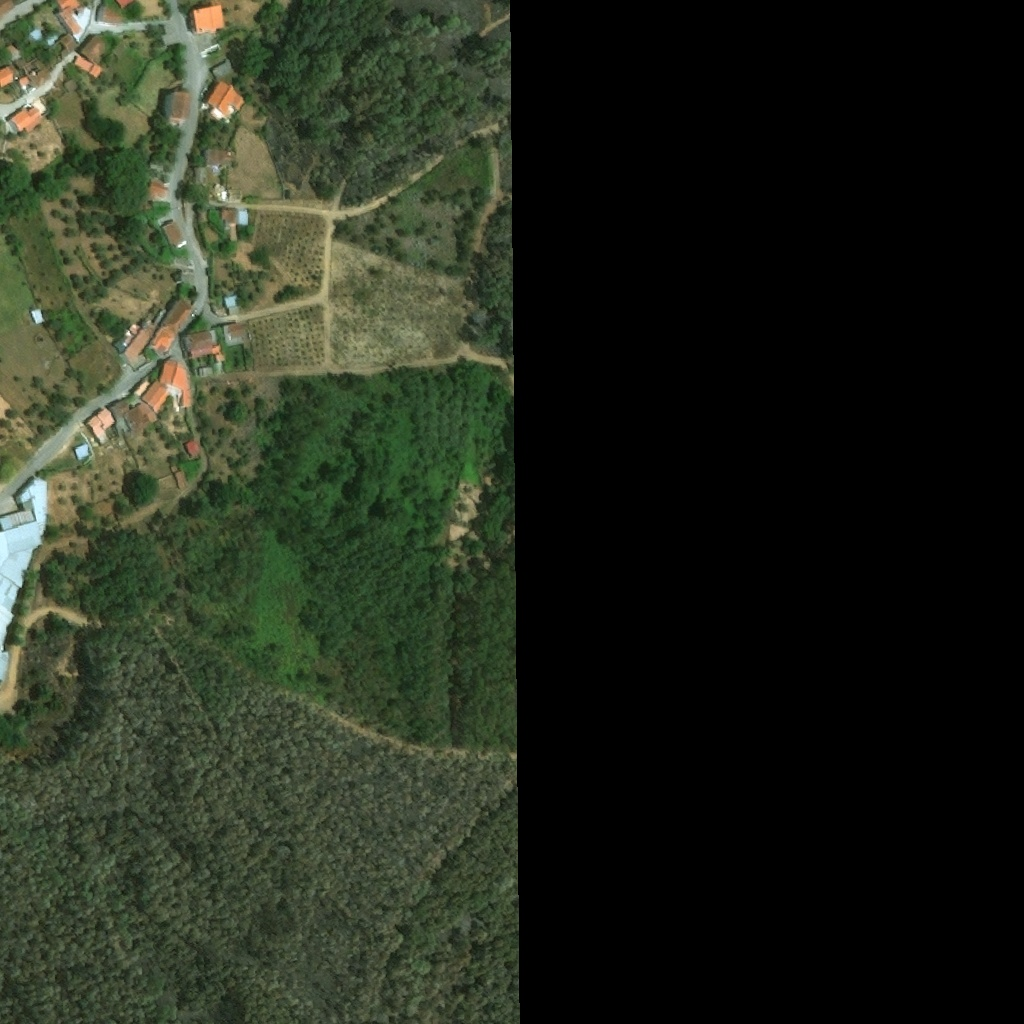0 no-damage: (0, 477, 48, 684), (139, 359, 193, 415), (146, 299, 196, 359), (111, 318, 160, 363), (204, 80, 250, 127), (79, 31, 117, 70), (7, 99, 48, 135), (184, 330, 227, 363), (53, 0, 87, 37), (82, 408, 116, 443), (188, 5, 226, 36), (161, 219, 190, 252), (108, 399, 131, 436), (165, 90, 190, 124), (27, 27, 61, 51), (206, 148, 233, 174), (220, 210, 248, 230), (123, 407, 147, 430), (147, 178, 171, 200), (210, 61, 235, 81), (0, 64, 20, 89), (73, 439, 93, 461), (224, 322, 246, 342), (3, 42, 23, 64), (98, 5, 122, 23), (170, 466, 187, 491), (59, 33, 80, 53), (30, 68, 52, 86), (182, 441, 200, 461), (223, 296, 241, 315), (62, 76, 80, 94), (29, 308, 45, 326), (18, 75, 35, 91), (115, 0, 140, 9), (0, 0, 14, 16), (228, 189, 242, 204), (196, 208, 209, 224), (197, 366, 213, 378), (195, 167, 206, 184), (86, 66, 101, 78)
